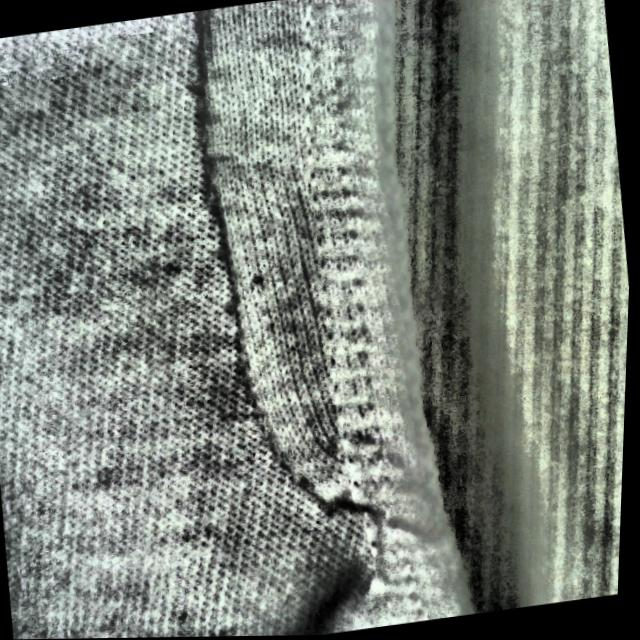seam: (112, 0, 452, 530)
